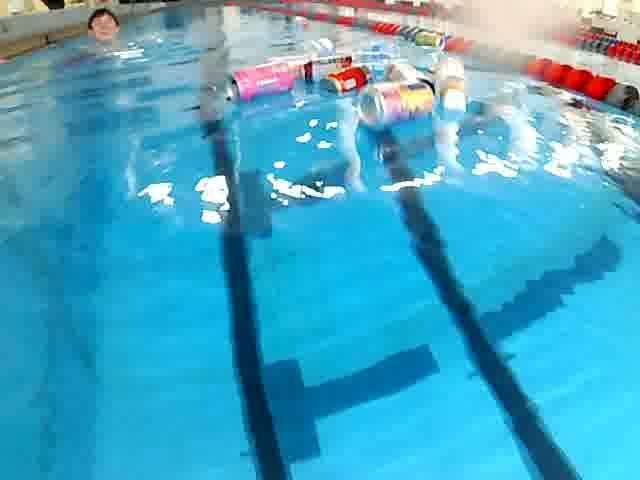Bottle: (432, 50, 484, 128), (294, 34, 343, 55)
Can: (352, 74, 440, 126), (222, 50, 296, 104), (301, 46, 362, 90), (319, 63, 361, 103), (402, 27, 453, 57)
